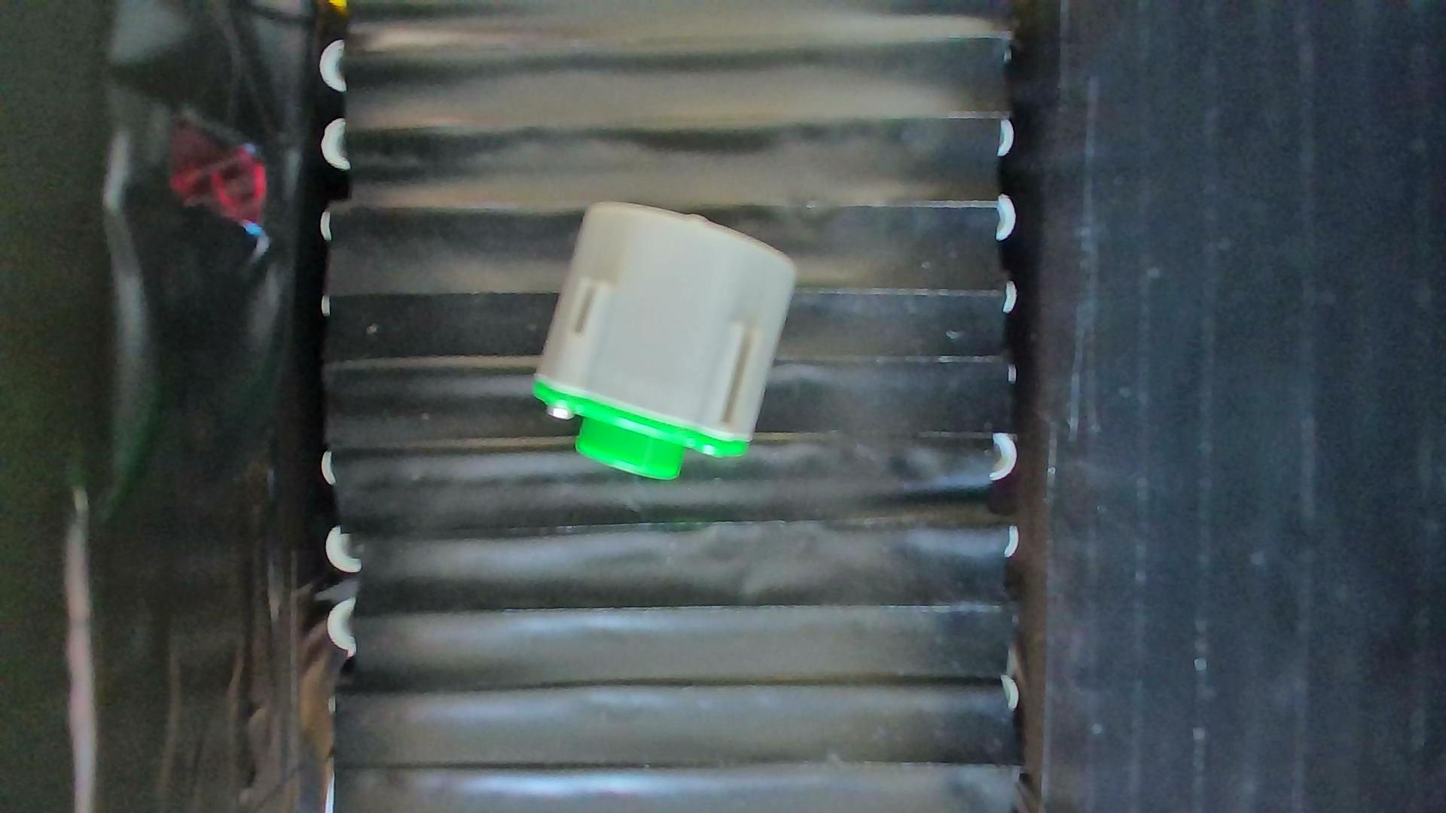cartridge: (531, 201, 798, 482)
